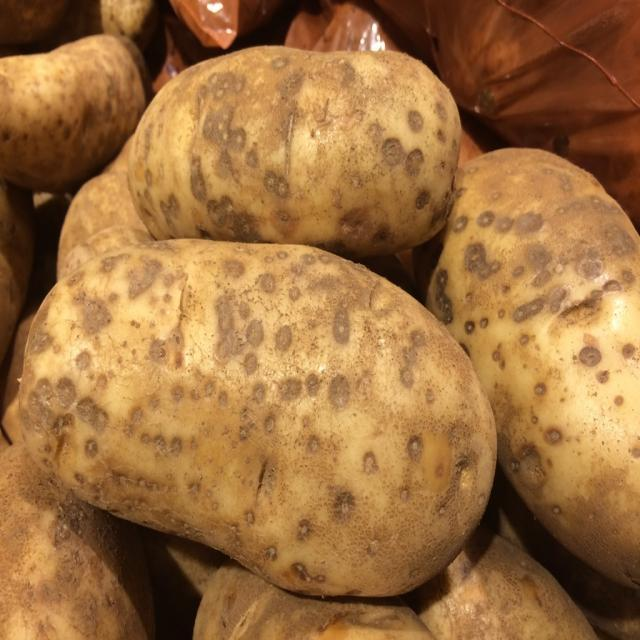Potato: (0, 0, 639, 639), (121, 41, 469, 263)
